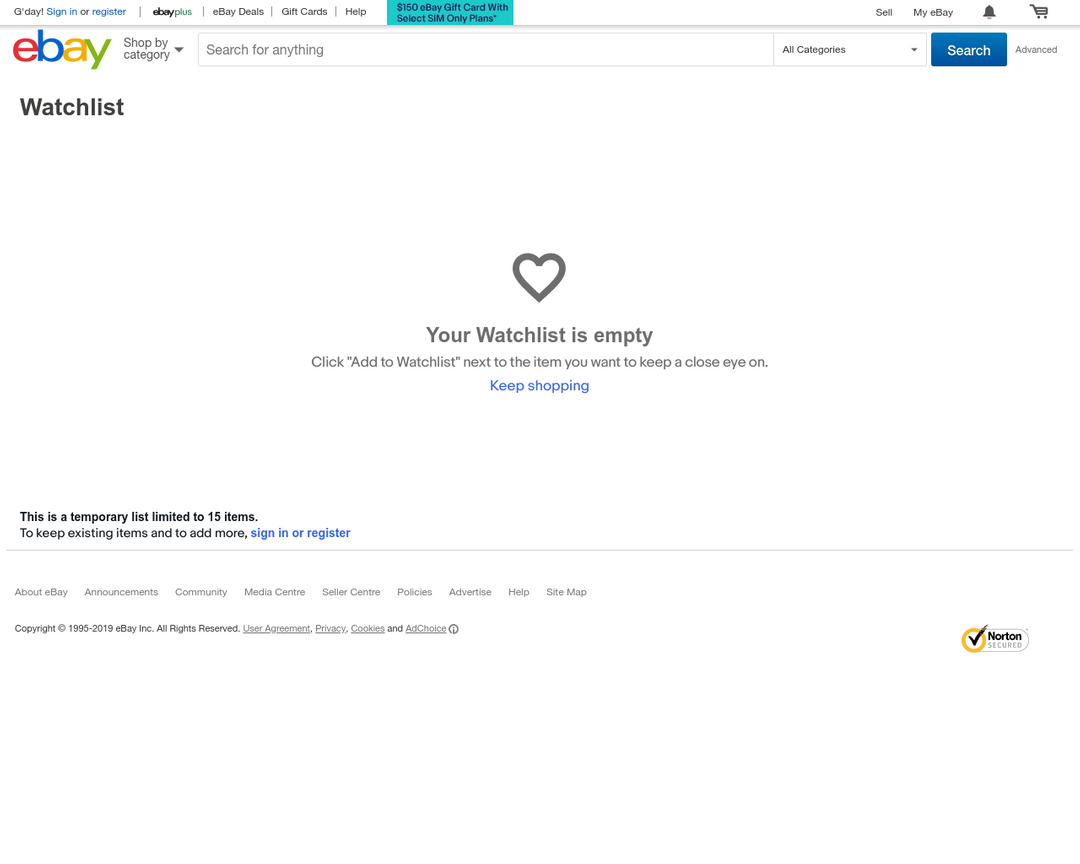Ebay: (7, 28, 114, 68)
